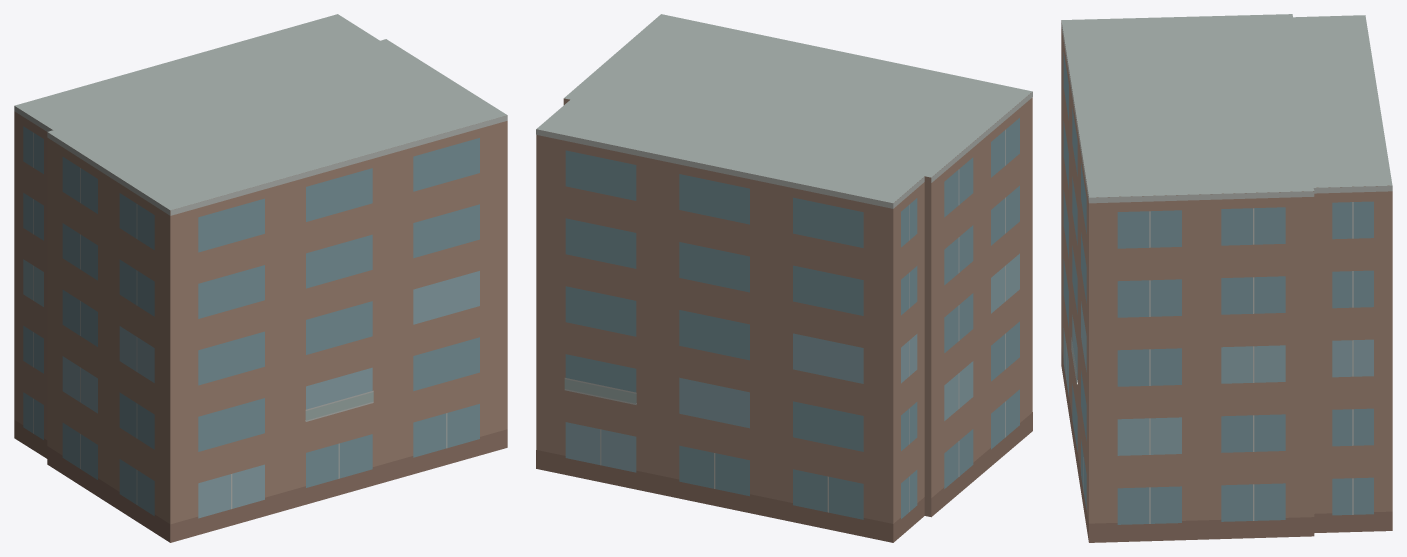
The model's file is survey-upis-32702491.glb.
3 views of the same model, side by side, from view 1: azimuth 30°, elevation 25°; view 2: azimuth 150°, elevation 25°; view 3: azimuth 270°, elevation 25° (orthographic). The views are drawn at different scales.
Parts seen in each view (by area): view 1: survey-upis-32702491.tmp; view 2: survey-upis-32702491.tmp; view 3: survey-upis-32702491.tmp.
Boxes of the visible parts, <box> form: survey-upis-32702491.tmp: <box>14,14,507,542</box>; survey-upis-32702491.tmp: <box>536,14,1032,542</box>; survey-upis-32702491.tmp: <box>1061,14,1392,542</box>.
Size of the model in its own units: 16.85 by 14.76 by 12.84.
